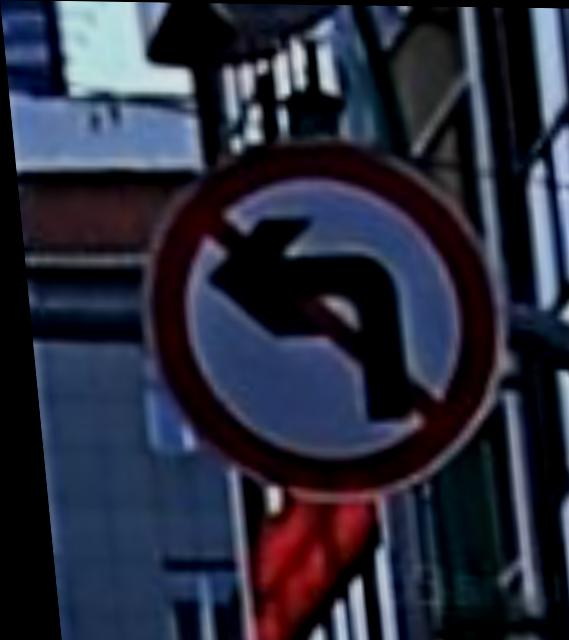not_turn_left: (118, 144, 533, 489)
